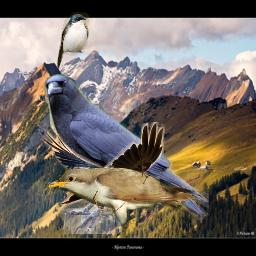Crow: (41, 74, 209, 234), (40, 122, 165, 210)
Cuckoo: (44, 165, 198, 238)
Swallow: (57, 12, 89, 69)
